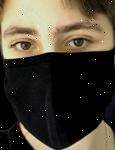with_mask: (2, 1, 115, 150)
